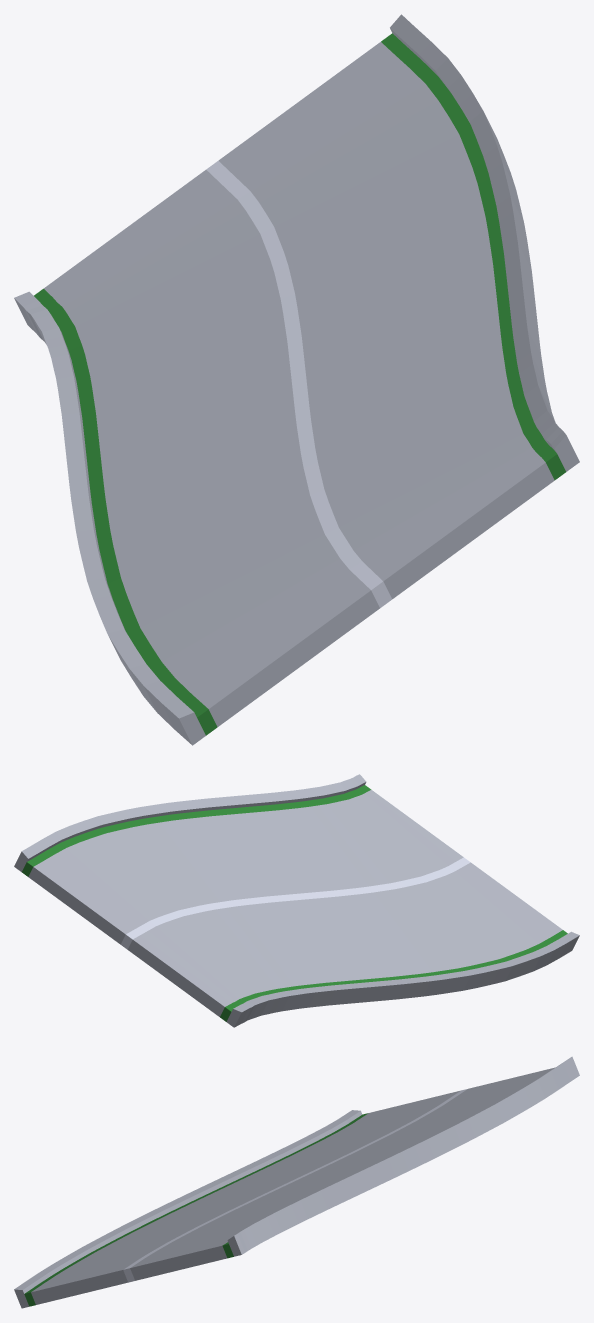
Rendered from tilt_chicane_left.glb.
The picture shows the model from 3 angles, top to bottom: view 1: azimuth 30°, elevation 25°; view 2: azimuth 150°, elevation 25°; view 3: azimuth 330°, elevation 25°; orthographic projection. The views are drawn at different scales.
Parts seen in each view (by area): view 1: tilt_chicane_left; view 2: tilt_chicane_left; view 3: tilt_chicane_left.
Part boxes in pixels (<box>): tilt_chicane_left: <box>14,14,579,745</box>; tilt_chicane_left: <box>14,774,579,1027</box>; tilt_chicane_left: <box>14,1056,579,1308</box>.
Bounding box in the file's own units: 28.82 × 13.84 × 30.8.
